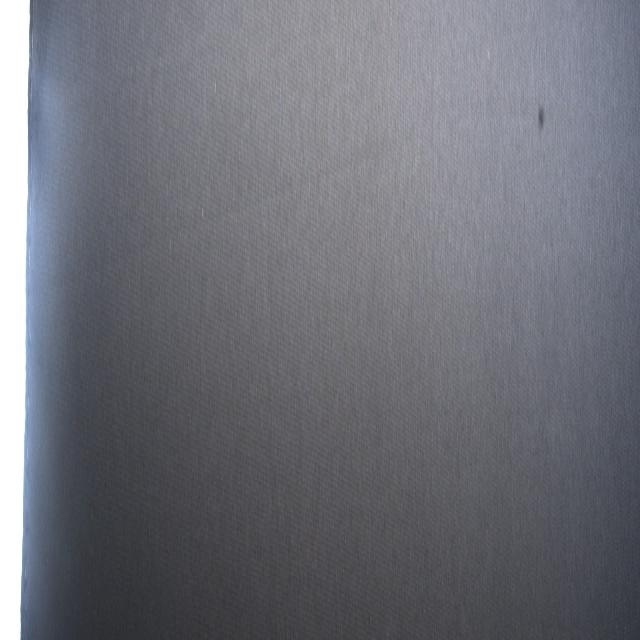crease: (71, 99, 424, 318), (317, 390, 352, 634)
